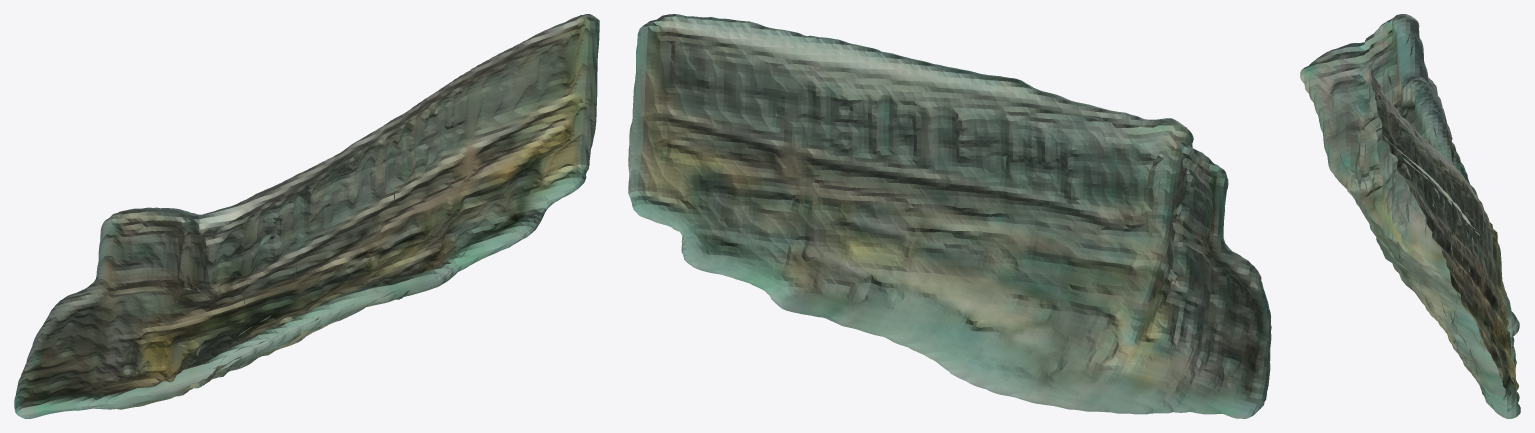
3 renders of one model, left to right at view 1: azimuth 30°, elevation 25°; view 2: azimuth 150°, elevation 25°; view 3: azimuth 270°, elevation 25°, orthographic. The views are drawn at different scales.
Parts seen in each view (by area): view 1: geometry_0; view 2: geometry_0; view 3: geometry_0.
Boxes of the visible parts, x1,y1,x2,y2 form: geometry_0: [14, 14, 599, 418]; geometry_0: [628, 14, 1271, 418]; geometry_0: [1300, 14, 1520, 418].
Bounding box in the file's own units: 1.6 × 0.7141 × 0.4953.
